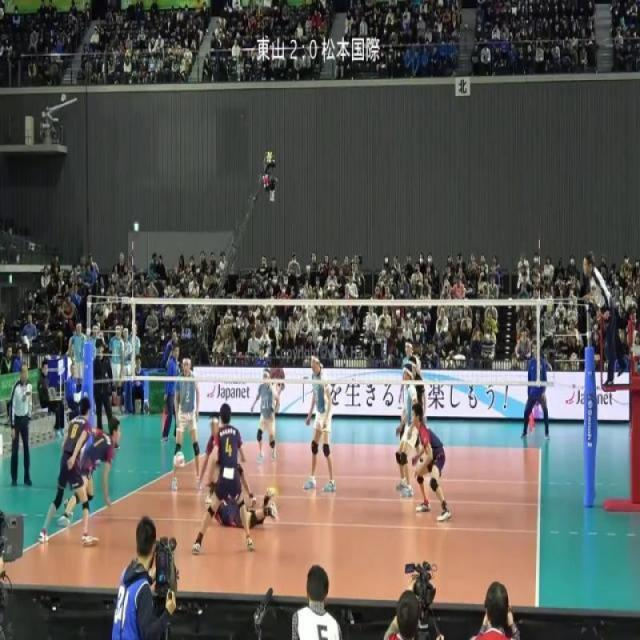volleyball: (173, 450, 186, 469)
